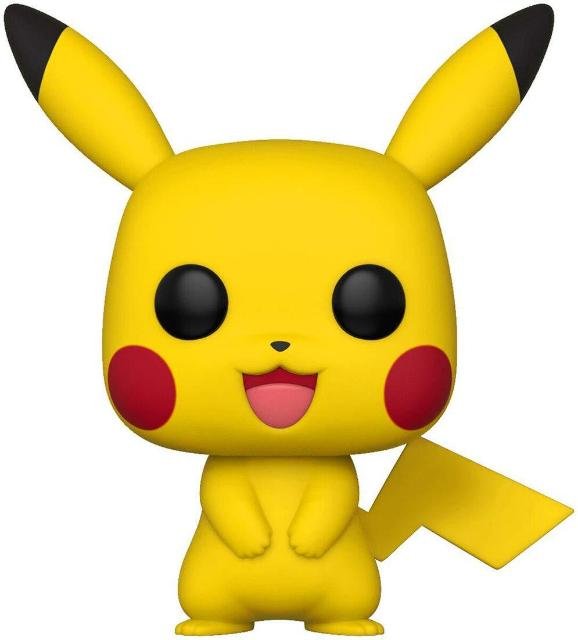pickachu: (5, 5, 576, 638)
